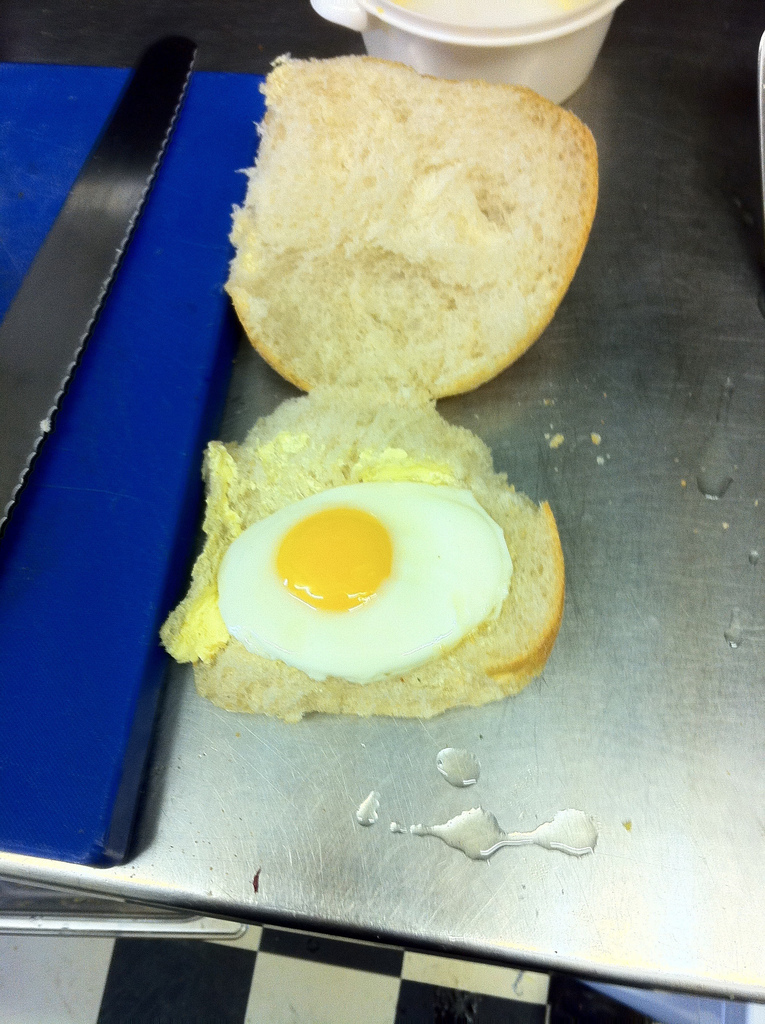fried egg: (252, 508, 492, 676)
slice of bread: (219, 49, 602, 405), (194, 405, 565, 711)
